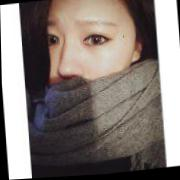WRONG: (32, 1, 141, 121)
